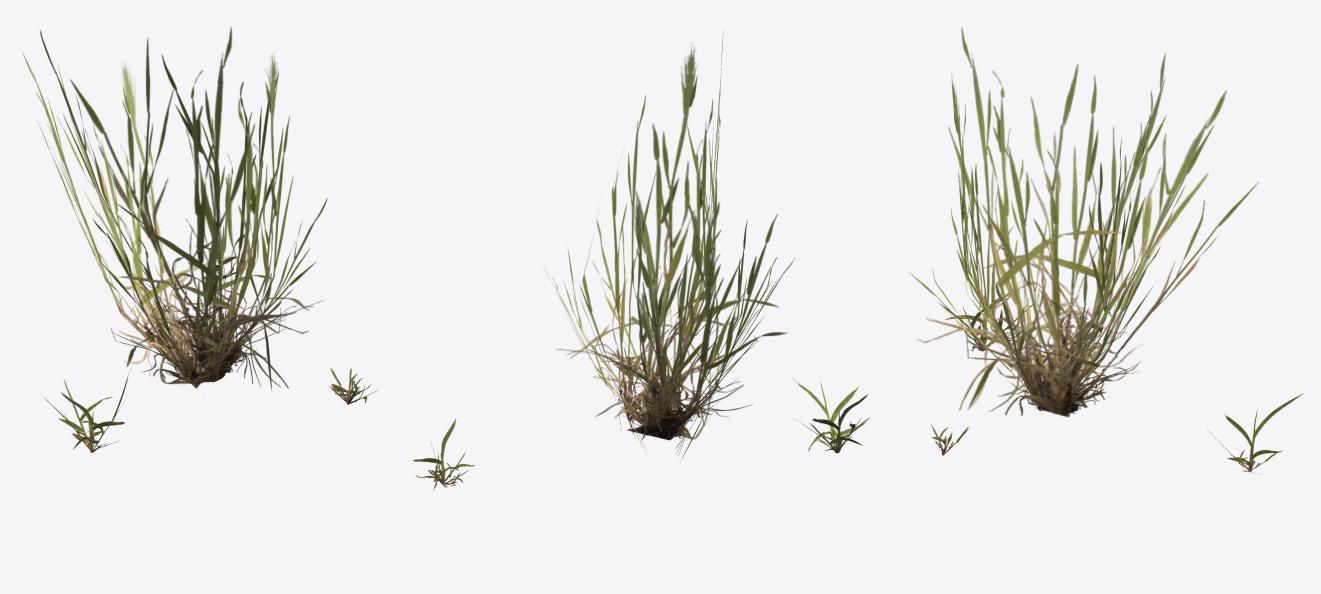
File: grass-clumps.glb
3 views of the same model, side by side, from view 1: azimuth 30°, elevation 25°; view 2: azimuth 150°, elevation 25°; view 3: azimuth 270°, elevation 25° (orthographic). The views are drawn at different scales.
Parts seen in each view (by area): view 1: rostlinka_07c, r12_a, r12_c; view 2: rostlinka_07c, r12_a, r12_b; view 3: rostlinka_07c, r12_b, r12_a.
Boxes of the visible parts, x1,y1,x2,y2 form: rostlinka_07c: [22, 26, 327, 398]; r12_a: [41, 369, 130, 452]; r12_c: [328, 367, 377, 404]; rostlinka_07c: [544, 30, 794, 459]; r12_a: [791, 376, 869, 453]; r12_b: [413, 418, 474, 490]; rostlinka_07c: [908, 27, 1258, 417]; r12_b: [1207, 393, 1303, 474]; r12_a: [938, 272, 1032, 351].
Size of the model in its own units: 0.345 by 0.5639 by 0.372.
2 materials, 2 textured.
